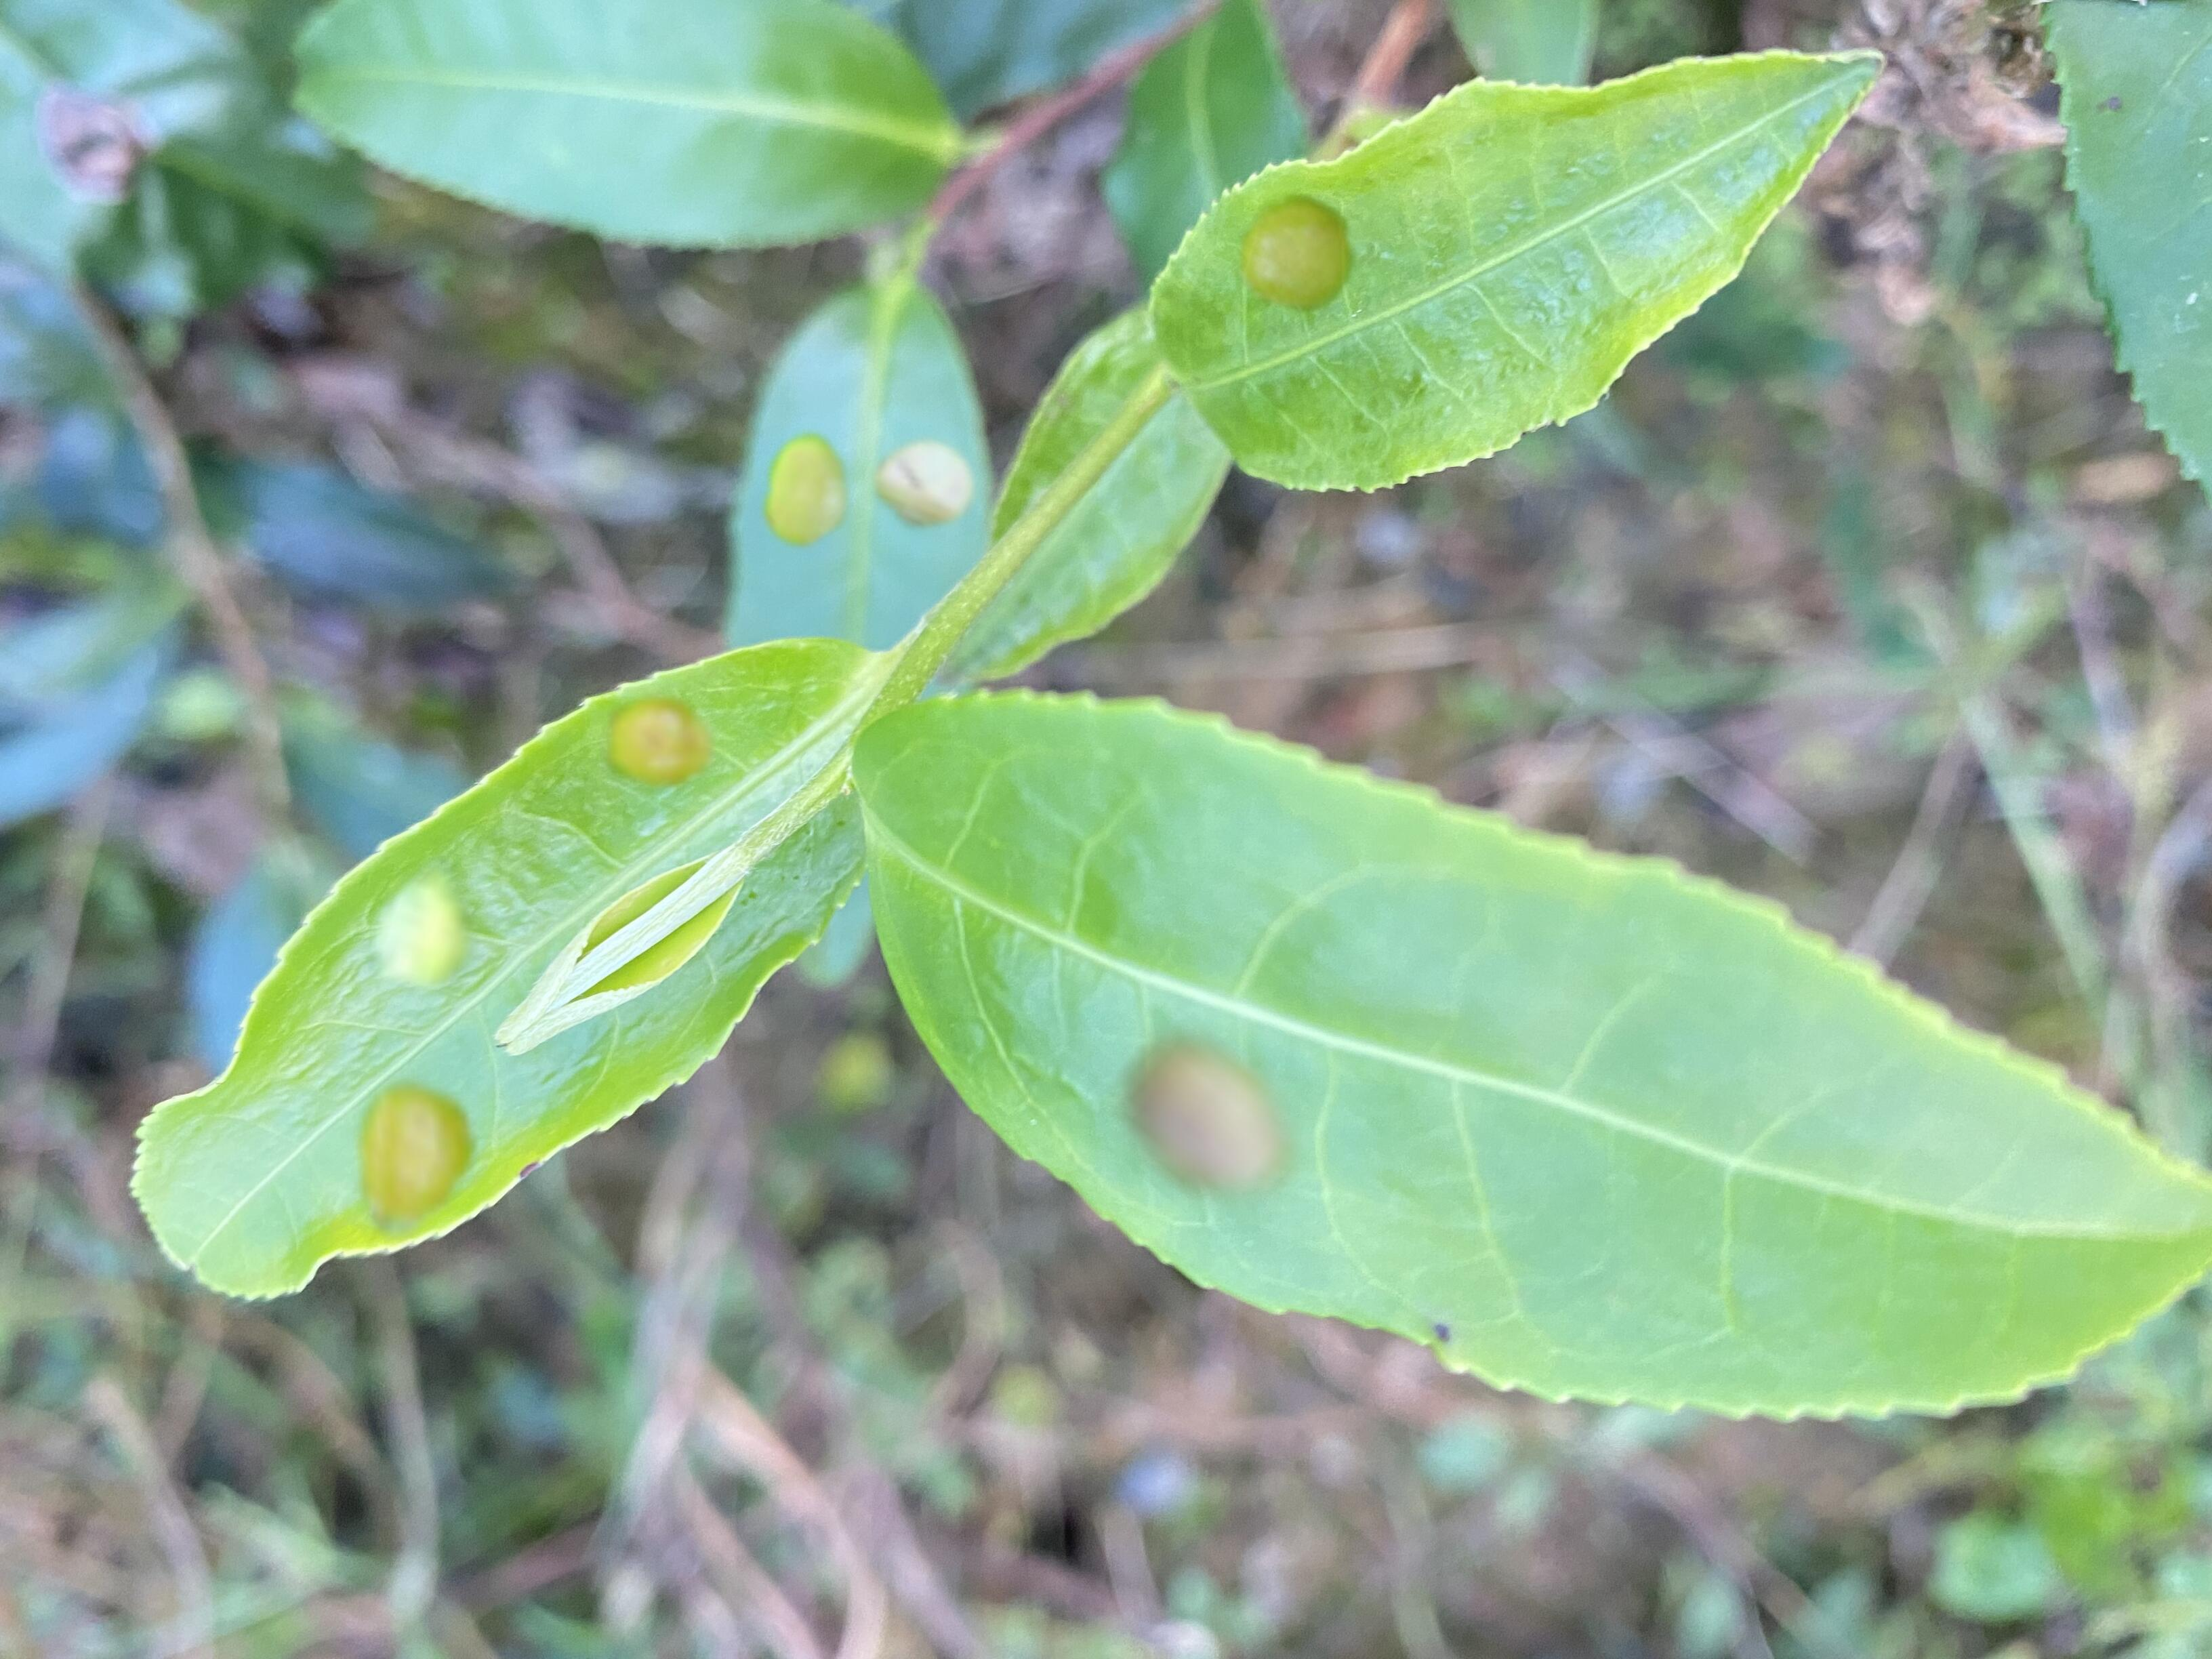chabing_high: (124, 636, 907, 1300), (726, 279, 989, 636)
chabing_low: (850, 685, 2212, 1425), (1148, 45, 1890, 495)
